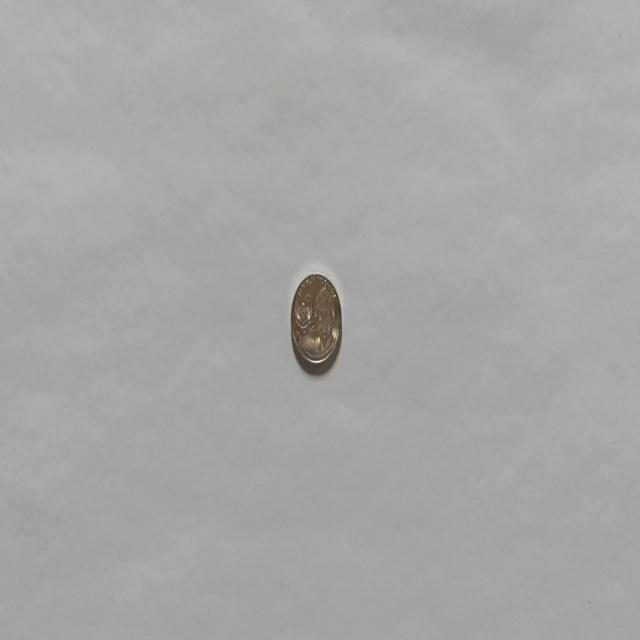dua ratus rupiah: (290, 271, 342, 369)
